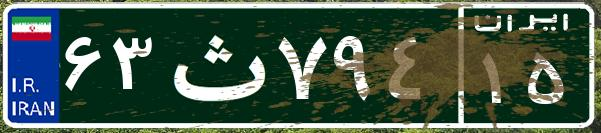1: (475, 38, 525, 113)
3: (110, 28, 158, 105)
4: (385, 28, 445, 110)
5: (525, 38, 570, 115)
6: (57, 26, 110, 107)
7: (273, 28, 330, 110)
9: (330, 28, 385, 110)
ث: (158, 15, 273, 115)
